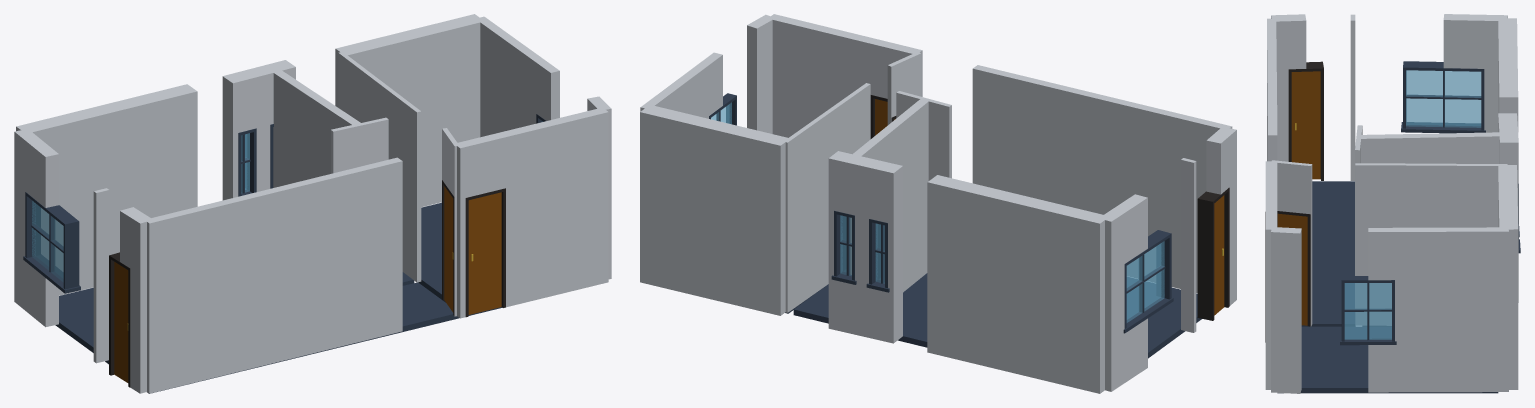
File: reconstructed_scene.glb
3 views of the same model, side by side, from view 1: azimuth 30°, elevation 25°; view 2: azimuth 150°, elevation 25°; view 3: azimuth 270°, elevation 25° (orthographic). The views are drawn at different scales.
Visible parts, largest first — view 1: wall_w12, wall_w14, wall_w1, wall_w4, wall_w7, wall_w5, wall_w6, wall_w2, wall_w3, door_d4, window_win3, floor_room1 (+9 smaller); view 2: wall_w1, wall_w12, wall_w4, wall_w3, wall_w14, wall_w7, wall_w2, wall_w6, door_d3, floor_room1, window_win3, wall_w13 (+10 smaller); view 3: wall_w5, wall_w7, floor_room1, window_win3, wall_w13, floor_room3, wall_w6, wall_w2, door_d3, window_win4, wall_w4, wall_w11 (+8 smaller).
Part boxes in pixels (box(x1,y1,x2,y2)): wall_w12: box(145, 157, 402, 393); wall_w14: box(454, 107, 608, 318); wall_w1: box(16, 84, 197, 295); wall_w4: box(335, 14, 484, 207); wall_w7: box(338, 52, 421, 282); wall_w5: box(480, 16, 559, 137); wall_w6: box(269, 67, 361, 187); wall_w2: box(14, 128, 58, 327); wall_w3: box(222, 60, 295, 200); door_d4: box(465, 188, 505, 317); window_win3: box(23, 192, 80, 293); floor_room1: box(55, 282, 458, 393); wall_w1: box(927, 175, 1108, 393); wall_w12: box(972, 65, 1232, 292); wall_w4: box(640, 106, 789, 315); wall_w3: box(828, 151, 902, 343); wall_w14: box(769, 14, 922, 137); wall_w7: box(784, 83, 870, 312); wall_w2: box(1099, 194, 1147, 391); wall_w6: box(850, 99, 929, 292); door_d3: box(1197, 187, 1229, 320); floor_room1: box(898, 273, 1201, 358); window_win3: box(1123, 230, 1173, 333); wall_w13: box(747, 14, 775, 133); wall_w5: box(1368, 227, 1508, 392); wall_w7: box(1355, 163, 1507, 325); floor_room1: box(1301, 181, 1354, 326); window_win3: box(1401, 61, 1485, 133); wall_w13: box(1271, 227, 1301, 393); floor_room3: box(1277, 326, 1498, 393); wall_w6: box(1359, 132, 1508, 163); wall_w2: box(1443, 14, 1507, 132); door_d3: box(1288, 61, 1323, 180); window_win4: box(1340, 276, 1396, 345); wall_w4: box(1498, 165, 1518, 389); wall_w11: box(1271, 14, 1306, 161).
Size of the model in its own units: 8.86 by 3.1 by 4.33.
